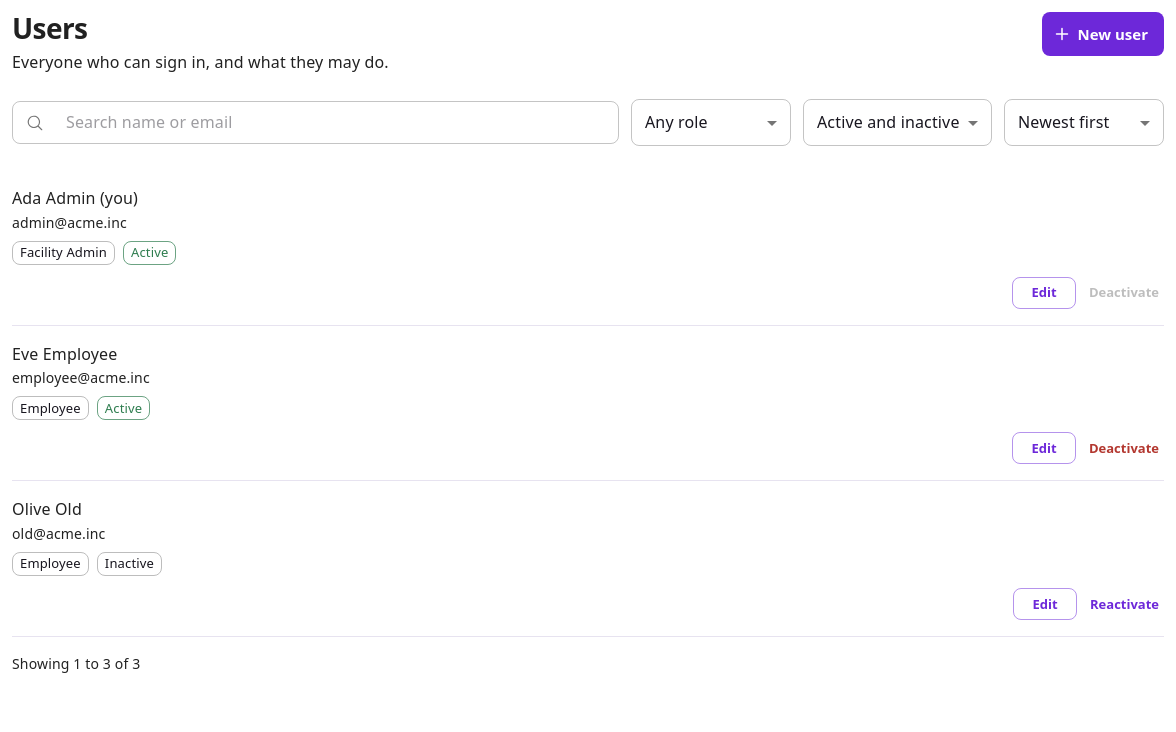
UsersPage › stacks the rows on a phone and explains an empty filter
Check: the text "Showing 1 to 3 of 3" is shown, box [12,653,140,674]
Check: the text "Ada Admin (you)" is shown, box [12,187,138,209]
Select "Engineer" in the 1st dropdown named "Role" at {"x": 711, "y": 123}, box [631,99,791,146]
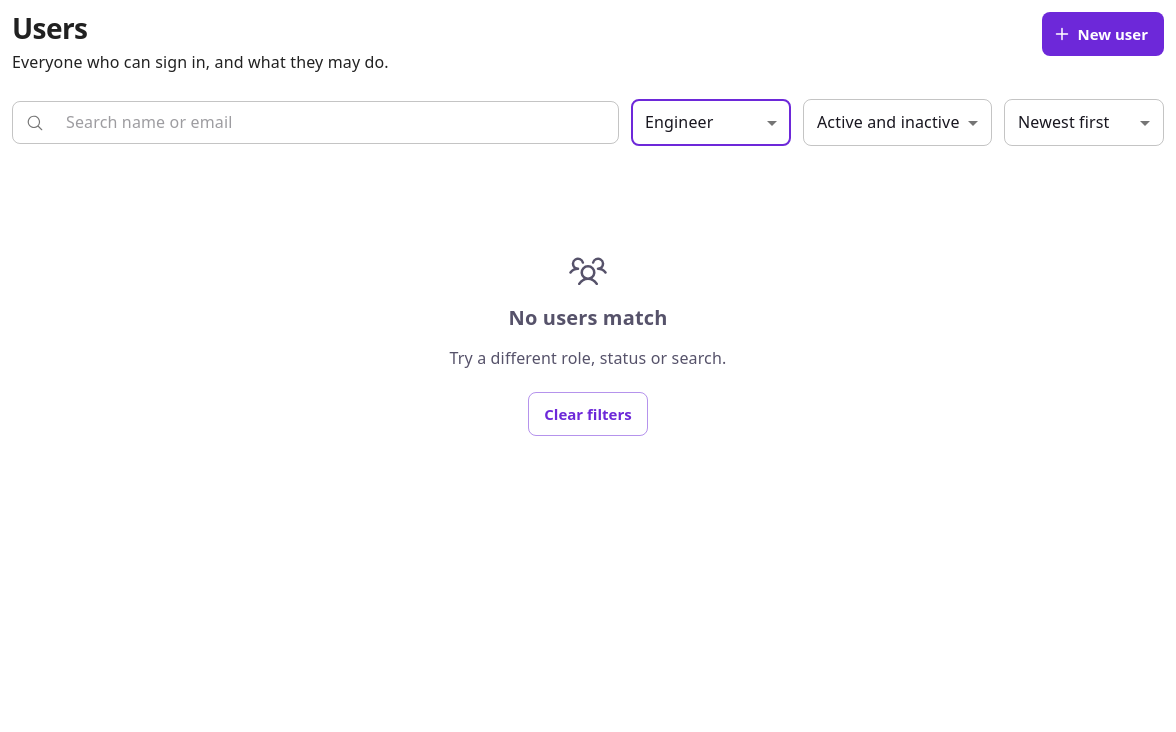
Check: the heading "No users match" is shown, box [508,302,667,334]
Click the button "Clear filters" at {"x": 588, "y": 414}, box [528,392,648,436]
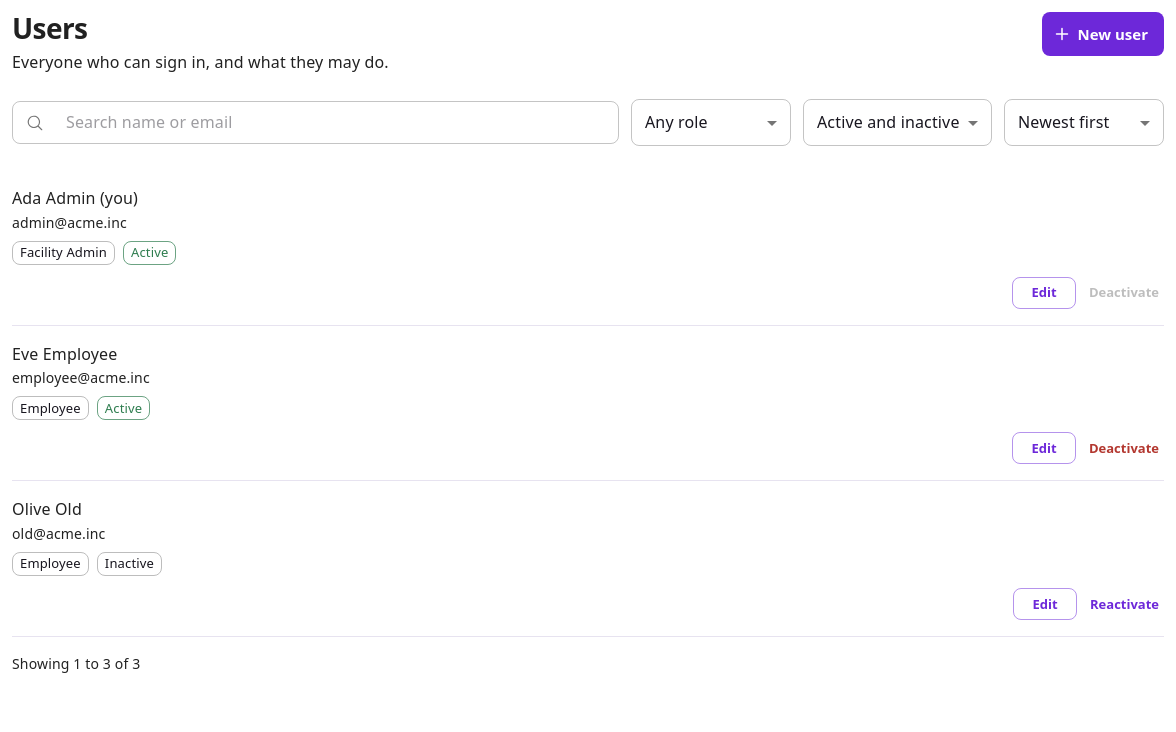
Check: the text "Showing 1 to 3 of 3" is shown, box [12,653,140,674]
